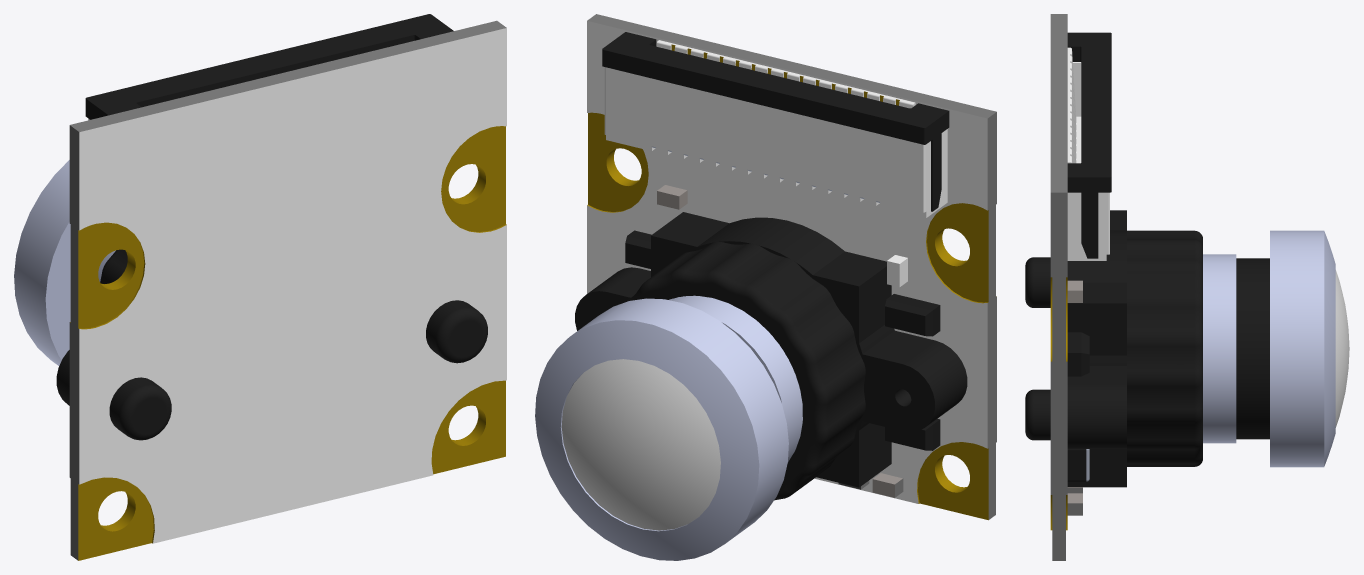
The model's file is camera.fbx.
3 renders of one model, left to right at view 1: azimuth 30°, elevation 25°; view 2: azimuth 150°, elevation 25°; view 3: azimuth 270°, elevation 25°, orthographic. The views are drawn at different scales.
Visible parts, largest first — view 1: rpiCameraM, rpiCameraM_lens; view 2: rpiCameraM, rpiCameraM_lens; view 3: rpiCameraM, rpiCameraM_lens.
Part boxes in pixels (x1,y1,x2,y2): rpiCameraM: [56, 14, 506, 560]; rpiCameraM_lens: [14, 160, 115, 365]; rpiCameraM: [575, 14, 996, 520]; rpiCameraM_lens: [535, 295, 802, 560]; rpiCameraM: [1025, 14, 1202, 560]; rpiCameraM_lens: [1203, 230, 1349, 467].
Size of the model in its own units: 2500 by 2400 by 1915.
